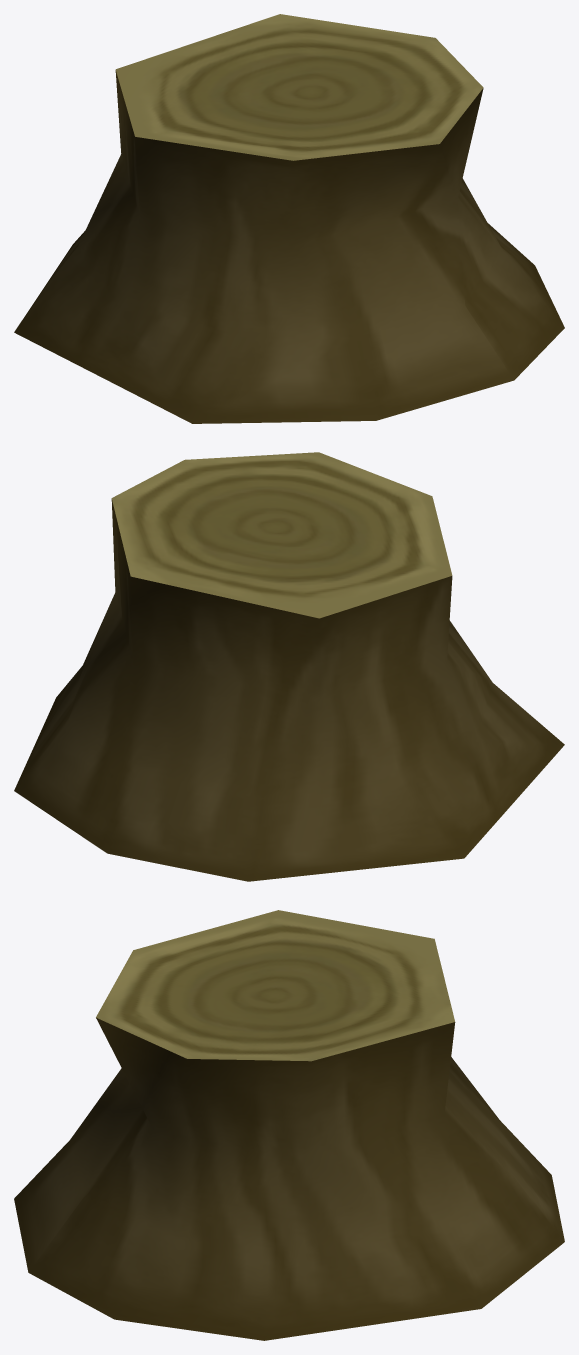
The model's file is s01_tree_05.FBX.
3 renders of one model, top to bottom at view 1: azimuth 30°, elevation 25°; view 2: azimuth 150°, elevation 25°; view 3: azimuth 270°, elevation 25°, orthographic. The views are drawn at different scales.
Parts seen in each view (by area): view 1: s01_tree_06; view 2: s01_tree_06; view 3: s01_tree_06.
Part boxes in pixels (x1,y1,x2,y2): s01_tree_06: (14,14,564,423); s01_tree_06: (14,452,564,881); s01_tree_06: (14,910,564,1340).
Size of the model in its own units: 2.08 by 0.9943 by 2.06.
